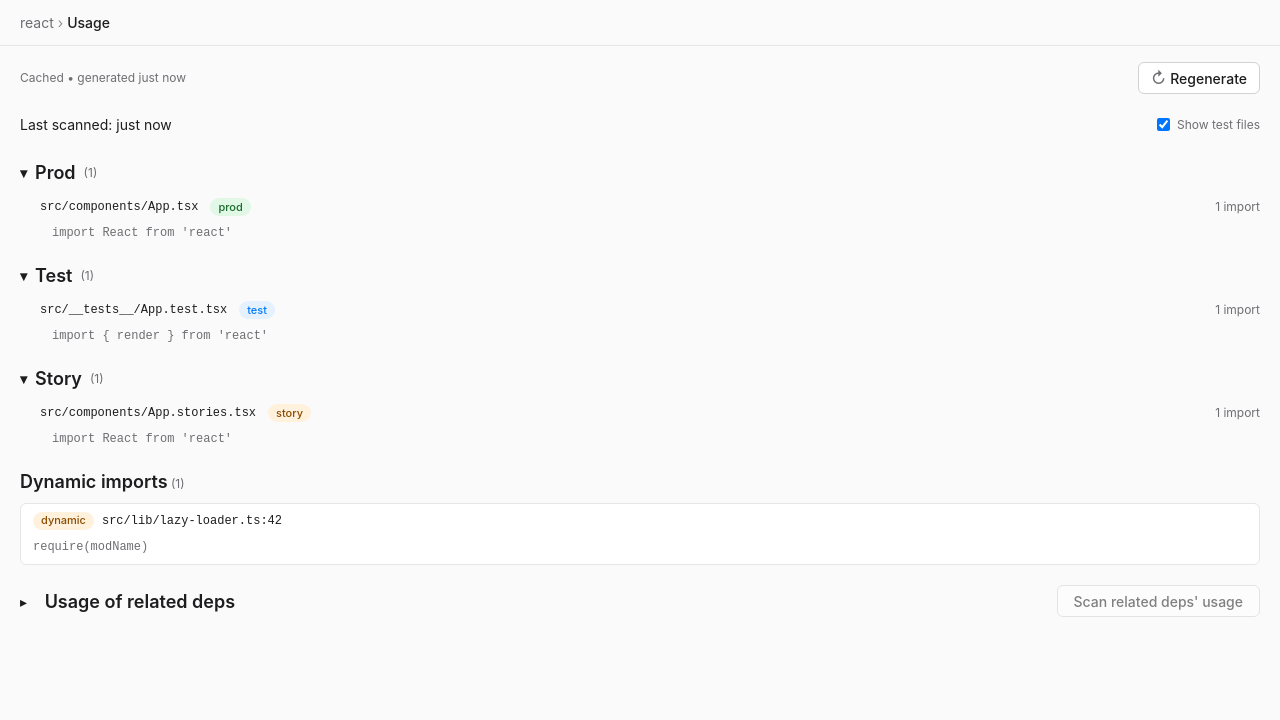
Test: UsageView (View [C]) › "Show test files" toggle hides the Test group when off
The image size is (1280, 720).
Click the checkbox with test id "show-test-files-toggle" at {"x": 1164, "y": 124}, box [1157,118,1170,131]
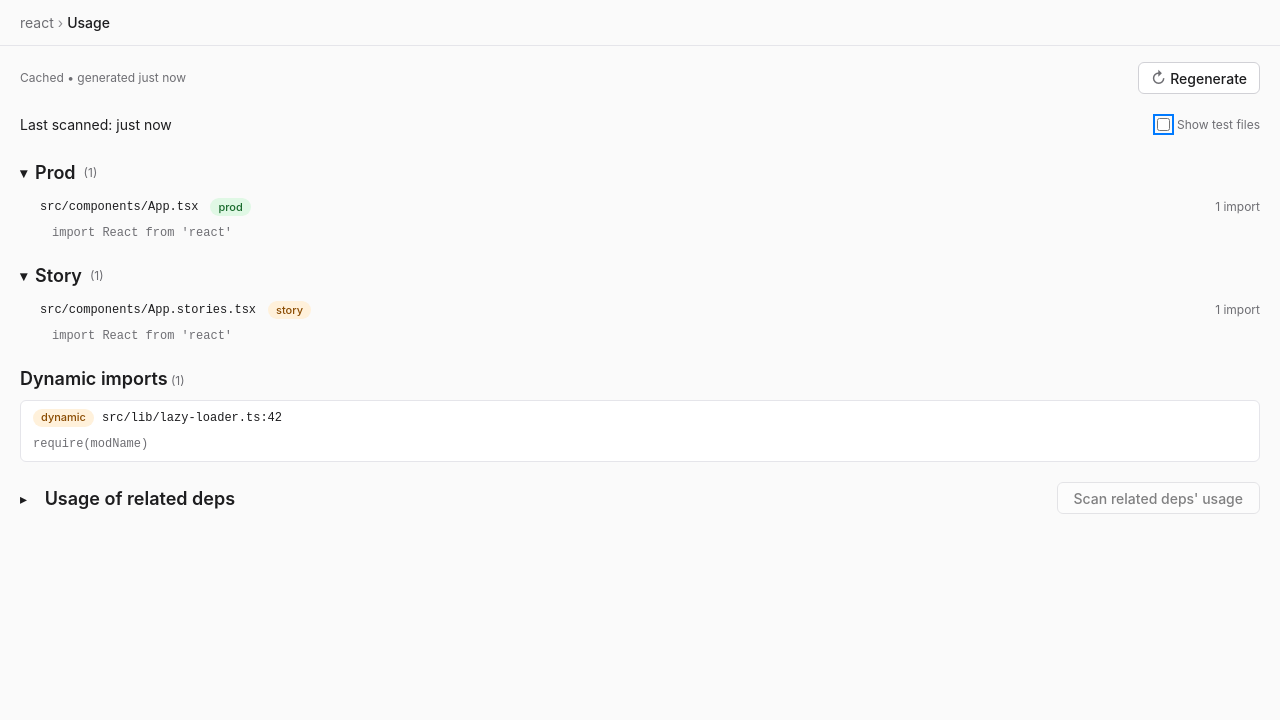
Expected: the button with test id "usage-group-prod" is shown, [20,155,1260,190]
Expected: the checkbox with test id "show-test-files-toggle" is not checked, [1157,118,1170,131]
Expected: the button with test id "usage-group-test" is gone
